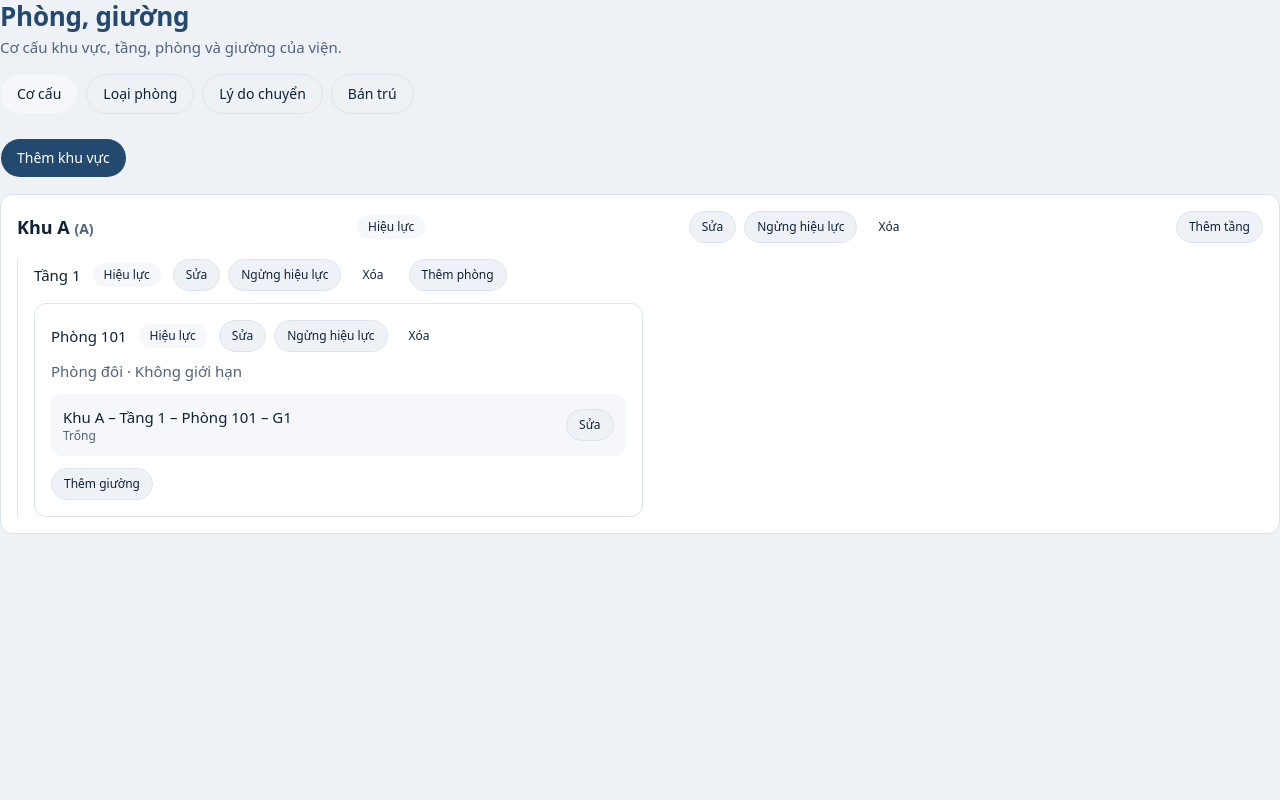
Test: FR_005_deactivationShowsAllBlockingConditions
Click the button with aria-label "Ngừng hiệu lực Phòng 101": coordinates (331, 336) [274,320,388,352]
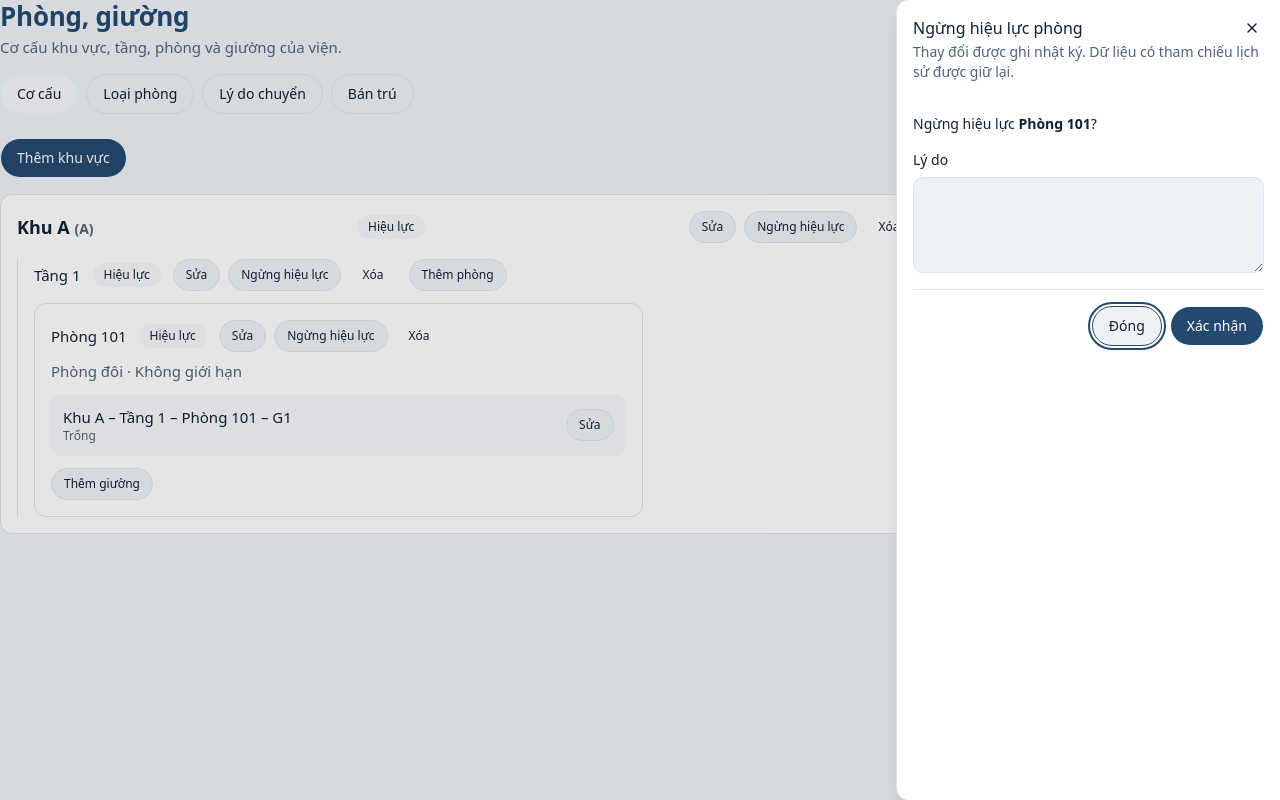
In the text box labelled "Lý do": coordinates (1088, 225) [913,177,1264,273], type "Ngừng phòng"
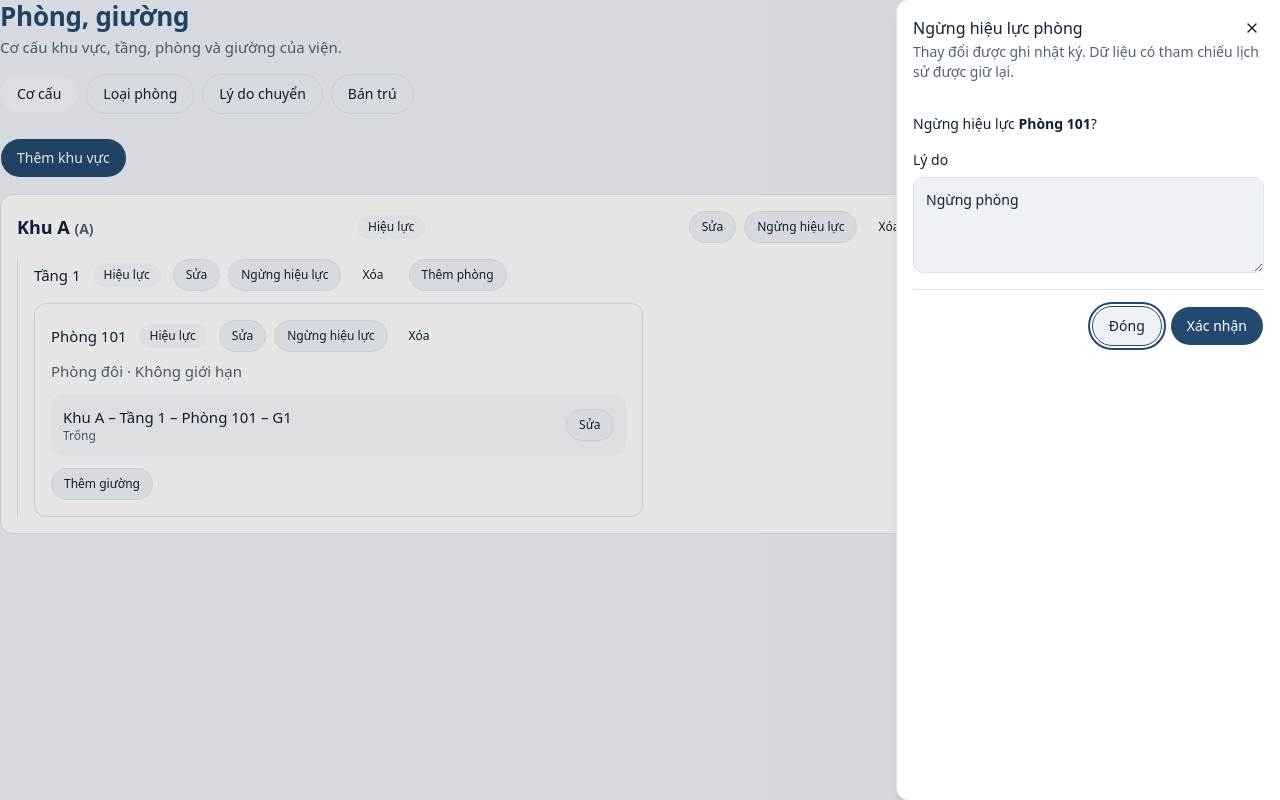
Click the button "Xác nhận": coordinates (1217, 326) [1170,306,1264,346]
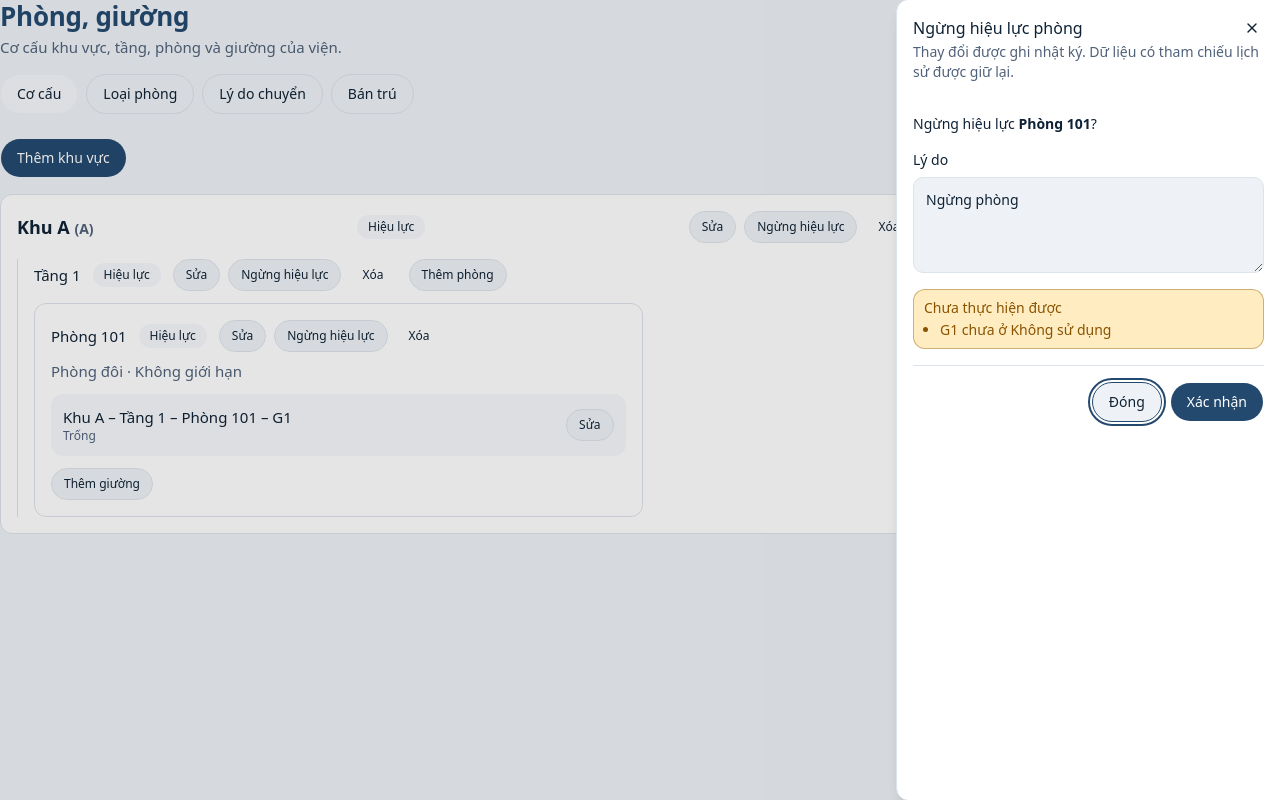
Now the list item "G1 chưa ở Không sử dụng" is shown, box [940,320,1111,339]
